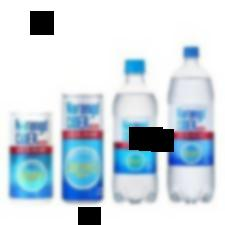narangdcider: (58, 91, 107, 206)
